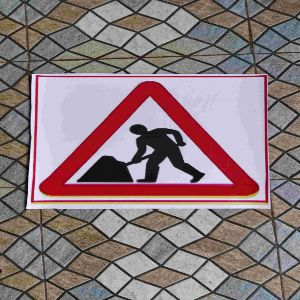men at work: (31, 73, 271, 210)
